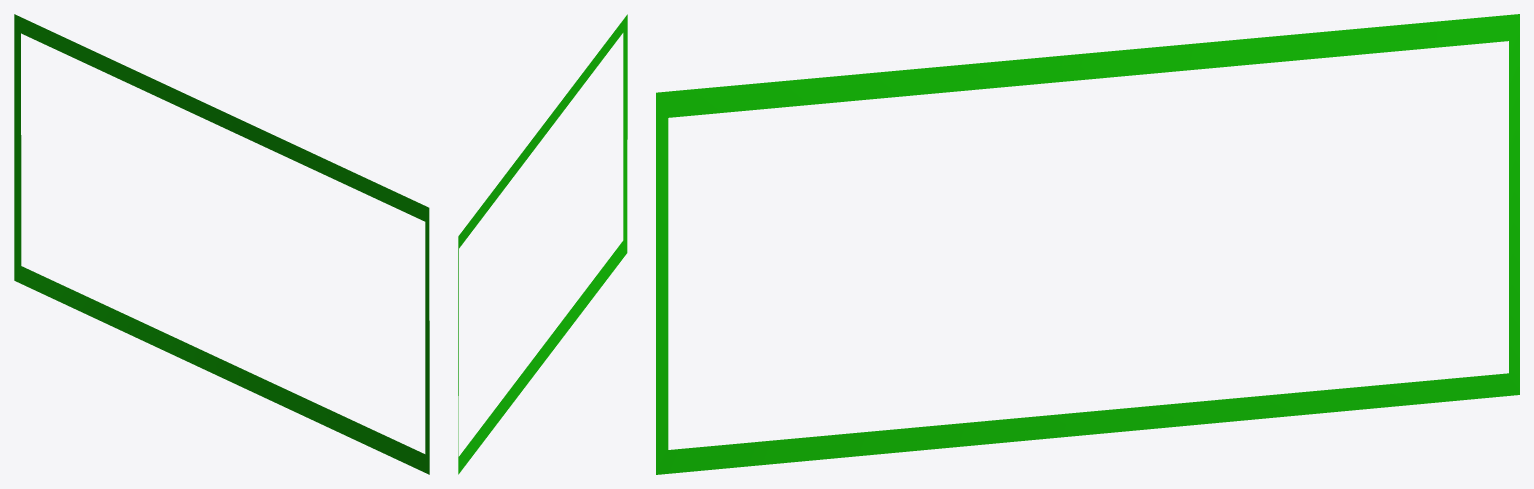
File: Marco_Highlight.FBX
3 renders of one model, left to right at view 1: azimuth 30°, elevation 25°; view 2: azimuth 150°, elevation 25°; view 3: azimuth 270°, elevation 25°, orthographic. The views are drawn at different scales.
Parts seen in each view (by area): view 1: Marco_Highlight; view 2: Marco_Highlight; view 3: Marco_Highlight.
Part boxes in pixels (box(x1,y1,x2,y2)): Marco_Highlight: box(14, 14, 429, 474); Marco_Highlight: box(458, 14, 627, 474); Marco_Highlight: box(656, 14, 1519, 474).
Size of the model in its own units: 121 by 273 by 559.
